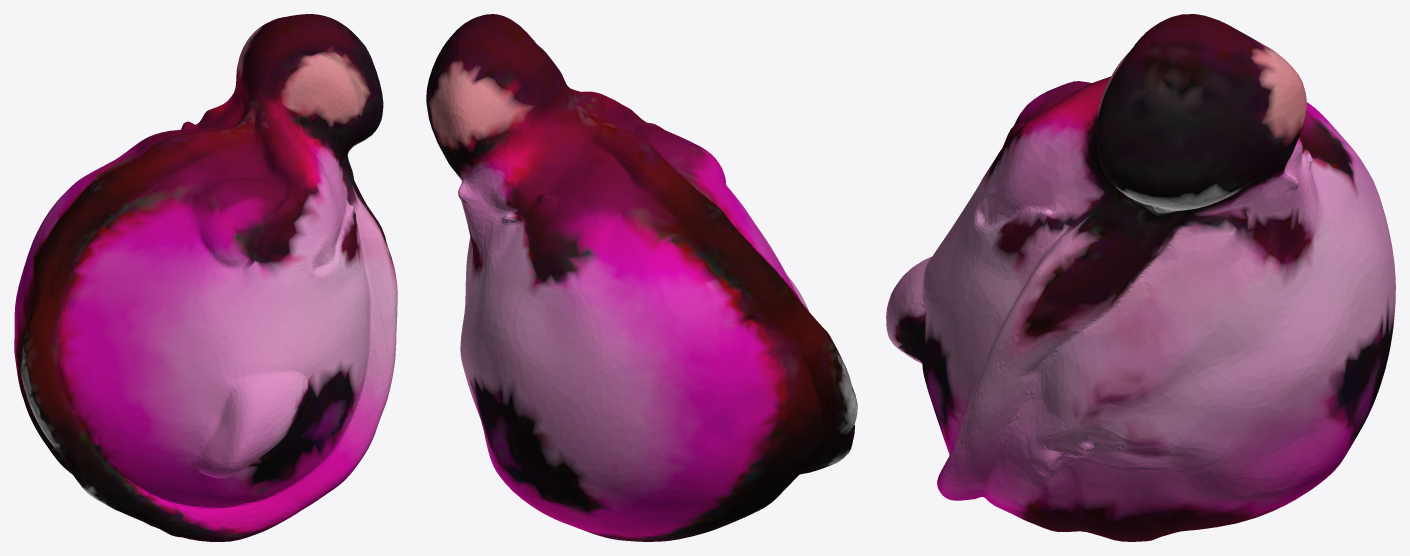
File: potionpow.glb
3 renders of one model, left to right at view 1: azimuth 30°, elevation 25°; view 2: azimuth 150°, elevation 25°; view 3: azimuth 270°, elevation 25°, orthographic. The views are drawn at different scales.
Visible parts, largest first — view 1: geometry_0; view 2: geometry_0; view 3: geometry_0.
Part boxes in pixels (x1,y1,x2,y2): geometry_0: (14,14,397,541); geometry_0: (426,14,857,541); geometry_0: (886,14,1395,541).
Size of the model in its own units: 0.375 by 0.4392 by 0.3449.
